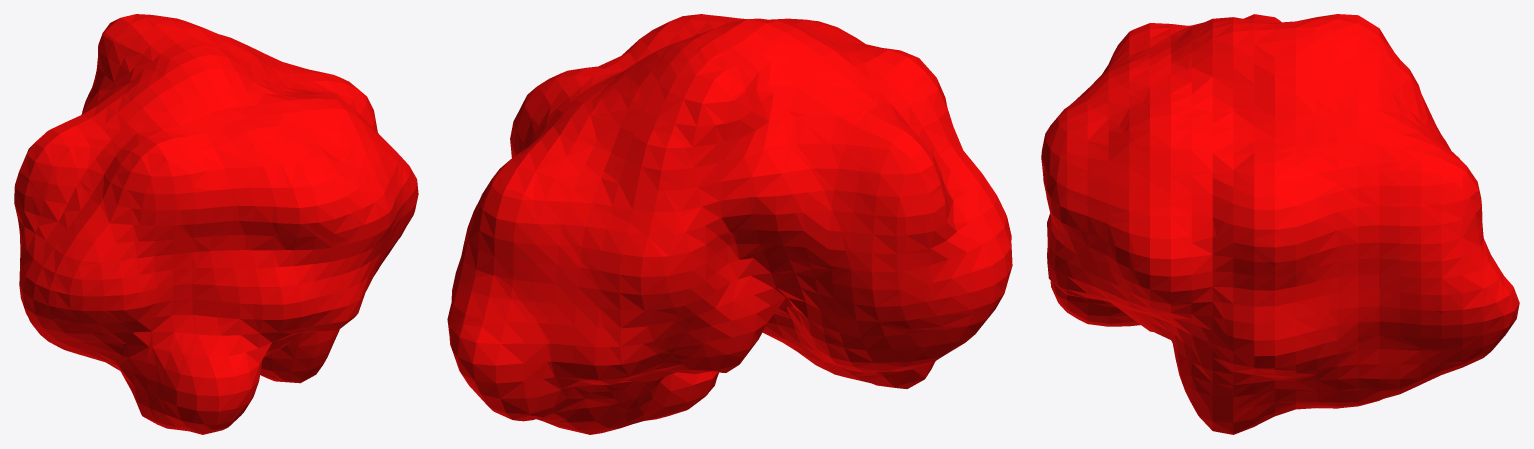
The model's file is bioD1_coarse.dae.
3 renders of one model, left to right at view 1: azimuth 30°, elevation 25°; view 2: azimuth 150°, elevation 25°; view 3: azimuth 270°, elevation 25°, orthographic. The views are drawn at different scales.
Visible parts, largest first — view 1: bioD1; view 2: bioD1; view 3: bioD1.
Boxes of the visible parts, x1,y1,x2,y2 form: bioD1: [14, 14, 418, 434]; bioD1: [447, 14, 1012, 434]; bioD1: [1041, 14, 1519, 434].
Size of the model in its own units: 49.66 by 44.29 by 52.55.
